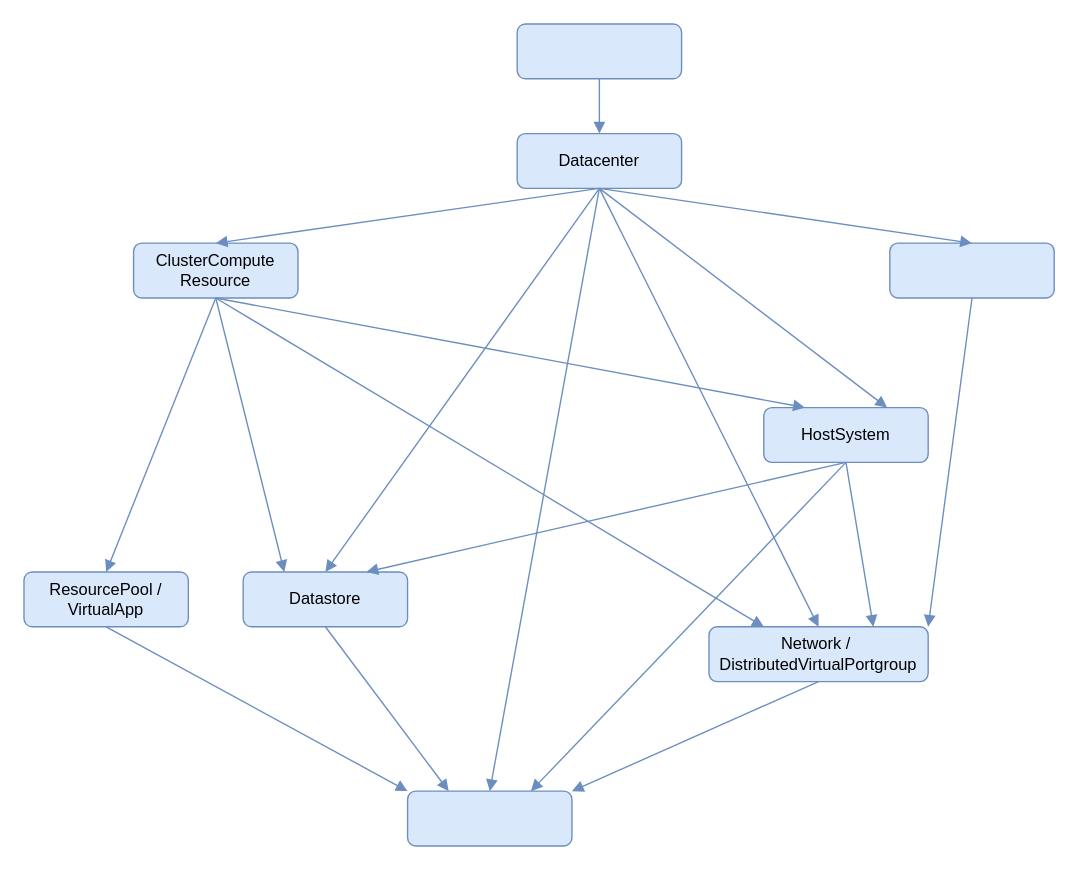
Image size: 1078x870. Some labels were removed from this diagram. The shapes that lost their labels are listed below. From the top down, each one's box as (x1, y1, x2, y2) in pixels, then its label:
(516, 23, 682, 79): Folder (rootFolder)
(888, 242, 1054, 298): Distributed VirtualSwitch
(406, 790, 572, 846): VirtualMachine
